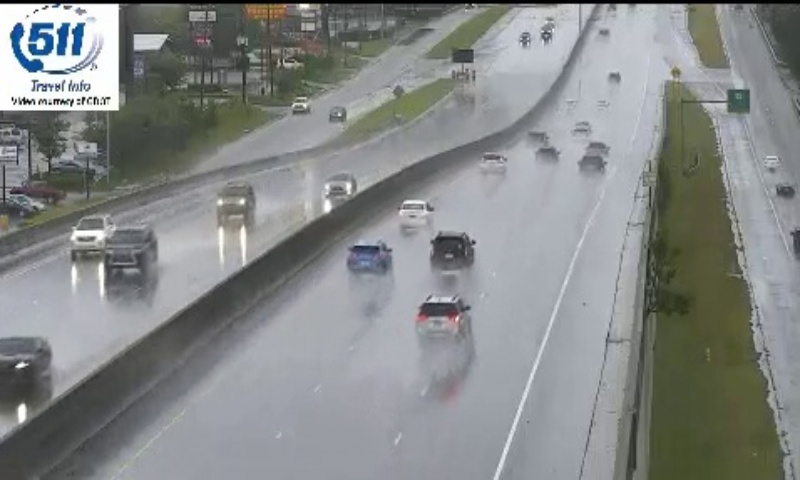car: (415, 295, 468, 337), (428, 230, 475, 266), (346, 240, 393, 274), (396, 200, 431, 228), (478, 150, 507, 173), (578, 155, 605, 176)
